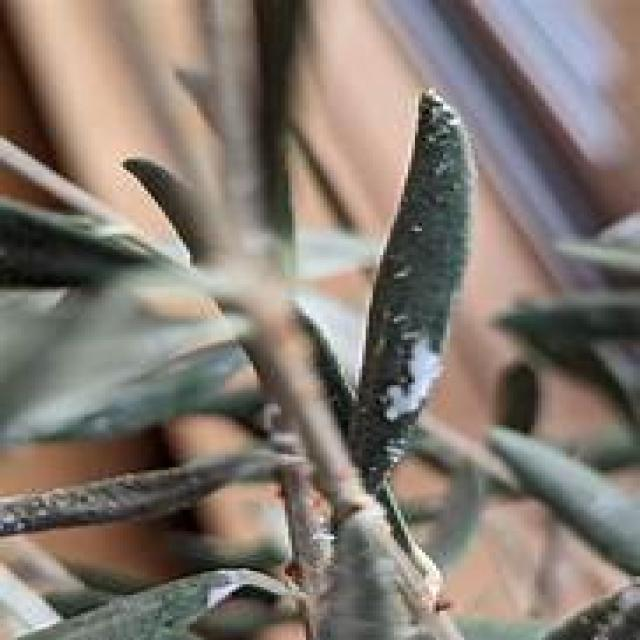Psyllid: (376, 338, 443, 428)
